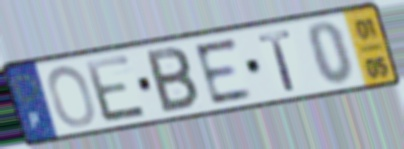0: (305, 19, 357, 89)
B: (143, 44, 202, 116)
E: (82, 52, 151, 126), (190, 35, 256, 108)
O: (45, 63, 98, 130)
T: (255, 27, 300, 94)
